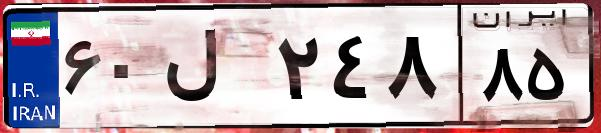0: (110, 28, 158, 98)
2: (270, 28, 330, 110)
4: (330, 28, 385, 110)
5: (525, 38, 570, 115)
6: (57, 26, 110, 100)
8: (385, 28, 445, 110), (475, 38, 525, 113)
ل: (158, 20, 270, 120)
